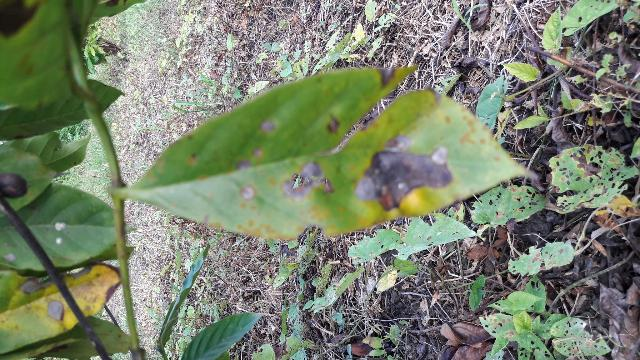rust_level_4: (125, 62, 547, 245)
